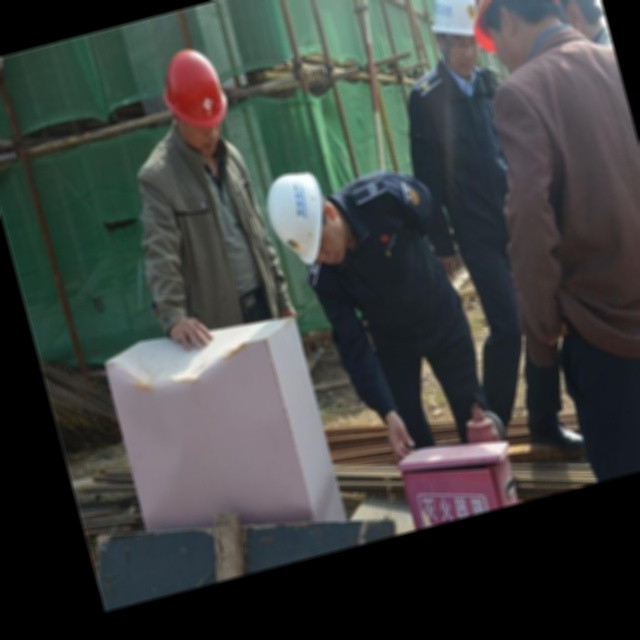Con_Casco: (262, 162, 350, 276), (154, 43, 240, 152)
